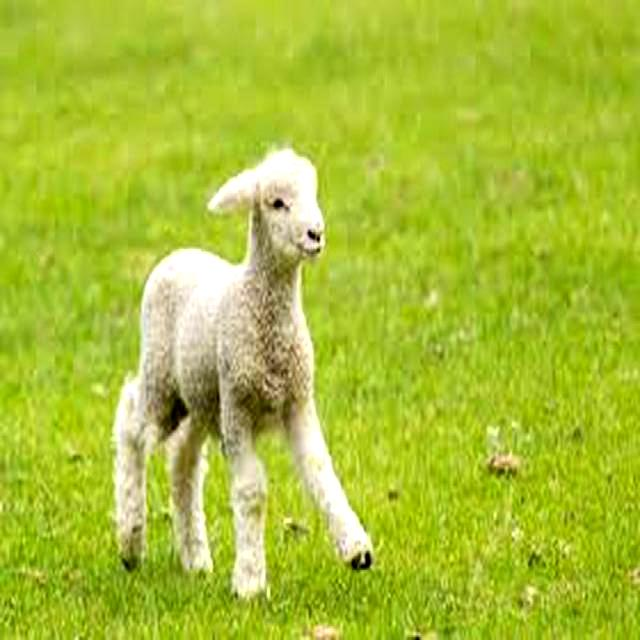sheep: (109, 151, 371, 602)
